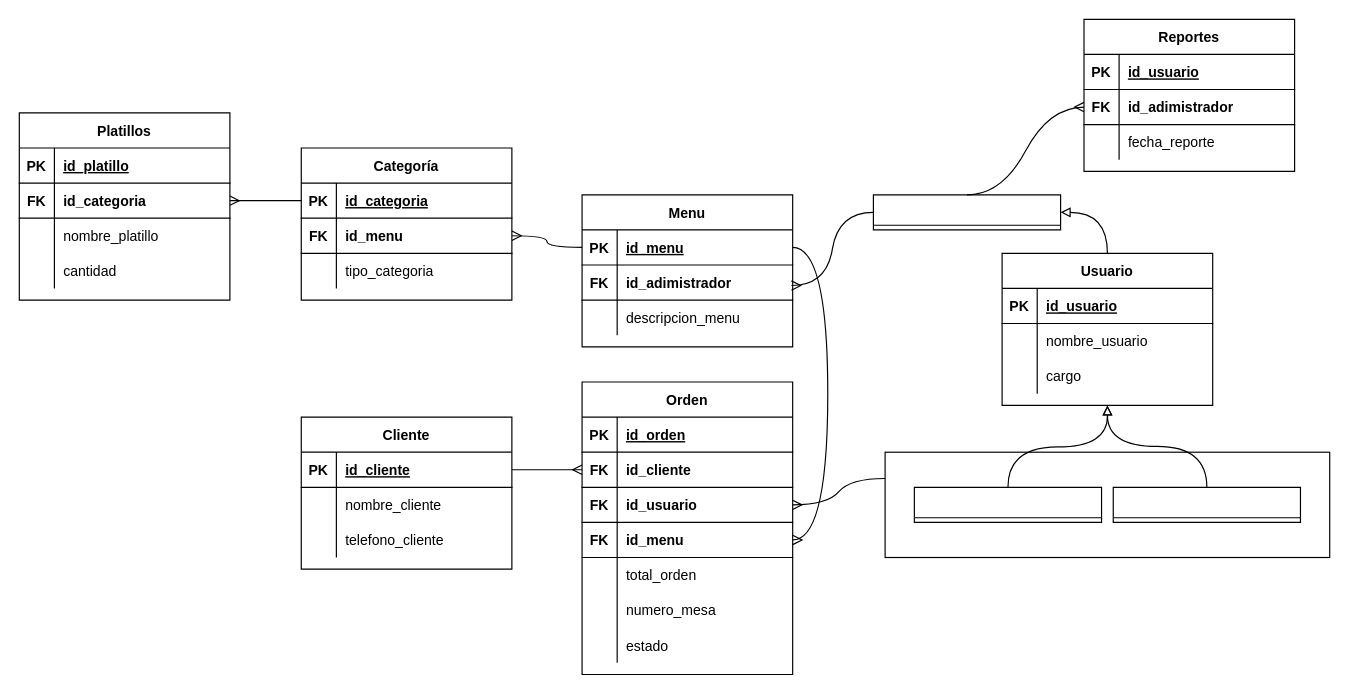
Image size: 1349x694. Some labels were removed from this diagram. The shapes that lost their labels are listed below. From the top down, each one's centre as x and y in pixels, then its label:
At pixel 966 212: "Administrador".
At pixel 1007 504: "Cajeros".
At pixel 1206 504: "Meseros".
